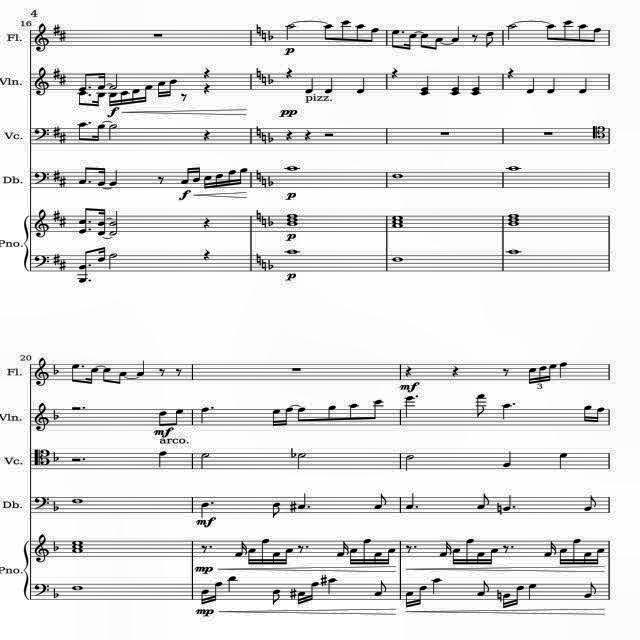Bass-clef: (34, 67, 50, 97), (34, 402, 50, 432), (34, 23, 50, 51), (34, 358, 50, 386), (34, 534, 50, 562), (34, 208, 48, 238)
Bemol: (267, 74, 275, 86), (266, 132, 274, 144), (52, 501, 60, 512), (266, 176, 274, 186), (266, 217, 274, 227), (52, 410, 60, 420), (52, 452, 60, 462), (52, 588, 60, 598), (53, 364, 59, 376), (52, 541, 59, 551), (268, 260, 274, 270), (291, 447, 297, 457), (268, 32, 274, 40)
Diez: (52, 24, 60, 36), (58, 30, 66, 42), (52, 126, 60, 138), (58, 132, 66, 144), (52, 170, 60, 182), (52, 254, 60, 266), (289, 588, 297, 600), (320, 574, 328, 586), (290, 501, 298, 513), (52, 68, 59, 80), (52, 210, 59, 222), (59, 216, 66, 228), (59, 74, 65, 86), (60, 176, 66, 188), (60, 260, 66, 272)
Eighth-note: (367, 400, 385, 420), (560, 20, 574, 42), (372, 492, 388, 510), (340, 20, 352, 42), (582, 495, 598, 511), (372, 580, 388, 596), (582, 582, 598, 598), (475, 491, 489, 509), (354, 24, 366, 44), (577, 24, 589, 44), (477, 394, 487, 418), (78, 167, 90, 186), (476, 580, 490, 596), (170, 409, 183, 426), (346, 404, 359, 421), (76, 122, 88, 140), (156, 409, 168, 427), (270, 501, 282, 519), (484, 30, 496, 48), (390, 30, 400, 50), (429, 37, 443, 51), (368, 28, 380, 44), (544, 24, 556, 40), (590, 28, 602, 44), (326, 406, 338, 422), (270, 590, 282, 606), (79, 72, 89, 91), (78, 208, 89, 225), (100, 368, 112, 382), (113, 372, 127, 384), (323, 24, 333, 40), (80, 250, 88, 270), (72, 364, 80, 384), (297, 408, 307, 422), (77, 92, 86, 106), (420, 34, 428, 48)
Eighth-rest: (502, 368, 511, 376), (180, 93, 188, 101), (156, 176, 164, 184), (158, 368, 166, 376), (200, 544, 208, 552), (296, 544, 304, 552), (404, 544, 412, 552), (502, 544, 510, 552), (470, 34, 478, 41), (175, 368, 181, 376)
Full-note: (508, 165, 520, 171), (72, 498, 84, 504), (391, 174, 405, 178), (285, 222, 299, 226), (70, 544, 84, 548), (286, 166, 298, 170), (286, 214, 298, 218), (286, 218, 298, 222), (392, 216, 404, 220), (392, 220, 404, 224), (392, 224, 404, 228), (508, 218, 520, 222), (508, 222, 520, 226), (286, 250, 298, 254), (392, 258, 404, 262), (508, 250, 520, 254), (72, 540, 84, 544), (72, 548, 84, 552), (72, 586, 84, 590), (508, 214, 518, 218)
Half-note: (200, 452, 212, 470), (296, 452, 308, 470), (108, 210, 120, 227), (108, 74, 120, 90), (108, 253, 119, 270), (405, 453, 415, 471), (285, 24, 295, 40), (505, 24, 515, 40), (108, 124, 118, 140), (110, 228, 118, 236)
Quarter-note: (404, 395, 416, 417), (304, 76, 316, 94), (355, 76, 365, 94), (525, 76, 535, 94), (546, 76, 556, 94), (135, 359, 145, 377), (431, 577, 441, 595), (419, 75, 429, 92), (451, 75, 461, 92), (471, 75, 481, 92), (323, 76, 332, 94), (503, 449, 512, 467), (451, 26, 461, 42), (199, 408, 209, 424), (558, 452, 568, 468), (200, 502, 210, 518), (297, 492, 307, 508), (503, 494, 512, 511), (578, 75, 586, 93), (502, 404, 511, 420), (158, 450, 166, 468), (406, 492, 414, 510), (528, 583, 536, 601), (110, 170, 118, 187), (560, 362, 568, 378), (228, 576, 236, 592), (328, 578, 336, 594)
Quarter-rest: (202, 83, 212, 95), (284, 130, 294, 142), (202, 216, 212, 228), (391, 68, 399, 80), (506, 68, 514, 80), (204, 130, 212, 142), (304, 130, 312, 142), (202, 250, 210, 262), (405, 366, 413, 378), (452, 366, 461, 376), (203, 66, 210, 78), (286, 68, 294, 78)
Sixteenth-note: (258, 537, 270, 565), (360, 538, 372, 566), (570, 538, 582, 566), (210, 582, 223, 606), (414, 585, 428, 607), (512, 586, 524, 610), (139, 85, 153, 105), (464, 538, 474, 566), (306, 582, 318, 604), (335, 540, 349, 558), (543, 540, 557, 558), (96, 167, 108, 187), (403, 34, 417, 50), (154, 81, 166, 99), (92, 124, 104, 142), (282, 407, 294, 425), (546, 364, 558, 382), (234, 539, 246, 557), (282, 548, 294, 566), (440, 540, 452, 558), (224, 169, 236, 187), (167, 78, 177, 98), (92, 93, 106, 107), (118, 90, 130, 106), (592, 407, 604, 423), (383, 548, 395, 564), (592, 548, 604, 564), (96, 71, 106, 89), (537, 365, 547, 383), (582, 405, 592, 423), (348, 548, 358, 566), (451, 548, 461, 566), (488, 548, 498, 566), (404, 590, 414, 608), (181, 167, 191, 185), (237, 167, 247, 185), (130, 88, 140, 104), (199, 589, 209, 605), (214, 172, 224, 188), (109, 92, 118, 108), (98, 208, 106, 226), (272, 409, 280, 427), (528, 367, 536, 385), (248, 547, 256, 565), (560, 548, 568, 566), (503, 592, 511, 610), (192, 166, 200, 184), (372, 551, 382, 565), (475, 551, 485, 565), (582, 551, 592, 565), (98, 245, 106, 262), (272, 550, 280, 566), (297, 590, 305, 606), (204, 175, 212, 189)
